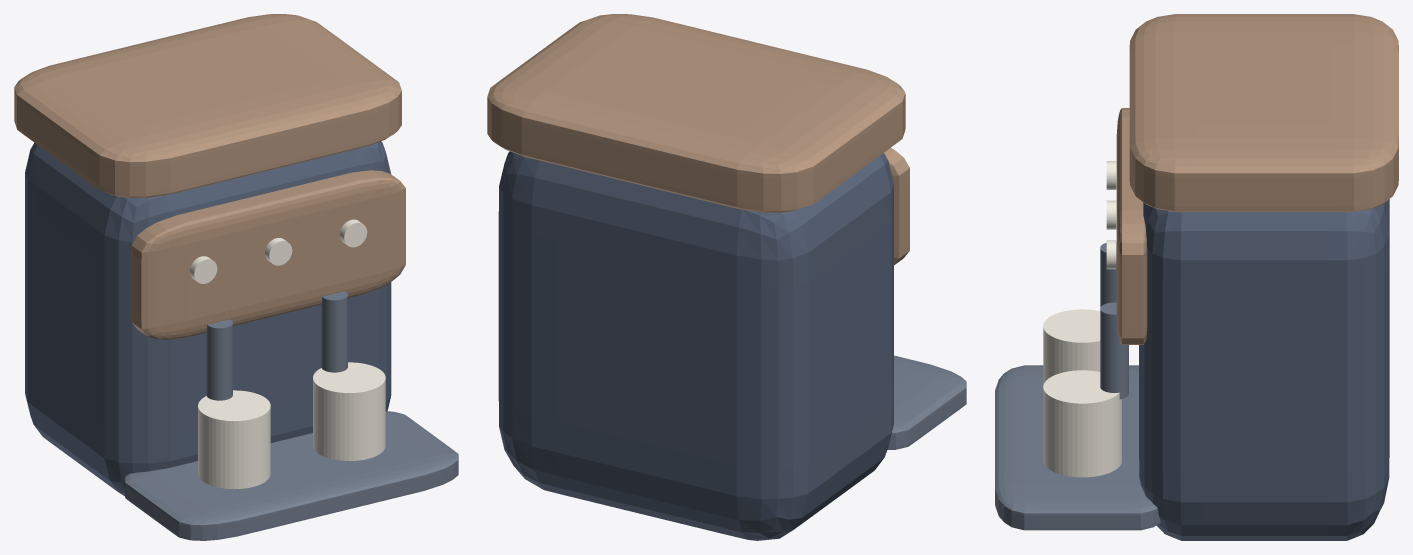
Rendered from espresso-machine.glb.
The picture shows the model from 3 angles, left to right: view 1: azimuth 30°, elevation 25°; view 2: azimuth 150°, elevation 25°; view 3: azimuth 270°, elevation 25°; orthographic projection. The views are drawn at different scales.
Visible parts, largest first — view 1: body, top, fascia, tray, cup-0.115, cup0.115, spout0.115, spout-0.115, button-0.15, button0, button0.15; view 2: body, top, tray, fascia; view 3: body, top, tray, cup0.115, fascia, cup-0.115, spout0.115, spout-0.115.
Part boxes in pixels (x1=…): body: x1=25, y1=141, x2=391, y2=495; top: x1=14, y1=14, x2=401, y2=198; fascia: x1=131, y1=170, x2=405, y2=339; tray: x1=125, y1=411, x2=458, y2=540; cup-0.115: x1=198, y1=390, x2=270, y2=489; cup0.115: x1=313, y1=362, x2=385, y2=460; spout0.115: x1=321, y1=291, x2=347, y2=372; spout-0.115: x1=206, y1=319, x2=232, y2=400; button-0.15: x1=190, y1=256, x2=217, y2=283; button0: x1=265, y1=238, x2=292, y2=265; button0.15: x1=340, y1=219, x2=367, y2=247; body: x1=498, y1=151, x2=893, y2=540; top: x1=487, y1=14, x2=905, y2=212; tray: x1=887, y1=355, x2=966, y2=449; fascia: x1=884, y1=148, x2=909, y2=264; body: x1=1139, y1=199, x2=1389, y2=540; top: x1=1129, y1=14, x2=1398, y2=211; tray: x1=995, y1=365, x2=1160, y2=530; cup0.115: x1=1043, y1=370, x2=1121, y2=477; fascia: x1=1116, y1=108, x2=1147, y2=344; cup-0.115: x1=1043, y1=309, x2=1100, y2=384; spout0.115: x1=1100, y1=302, x2=1128, y2=399; spout-0.115: x1=1100, y1=242, x2=1116, y2=307.
Bounding box in the file's own units: 0.6 × 0.71 × 0.645.
